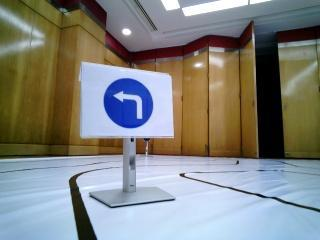left: (84, 72, 173, 132)
